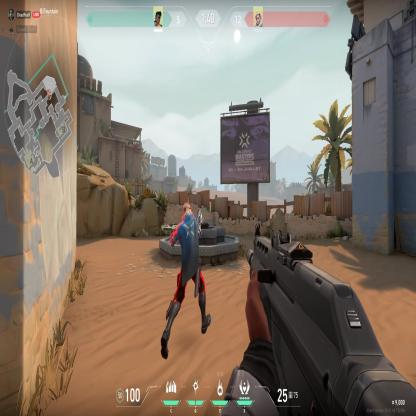enemy: (155, 200, 215, 360)
